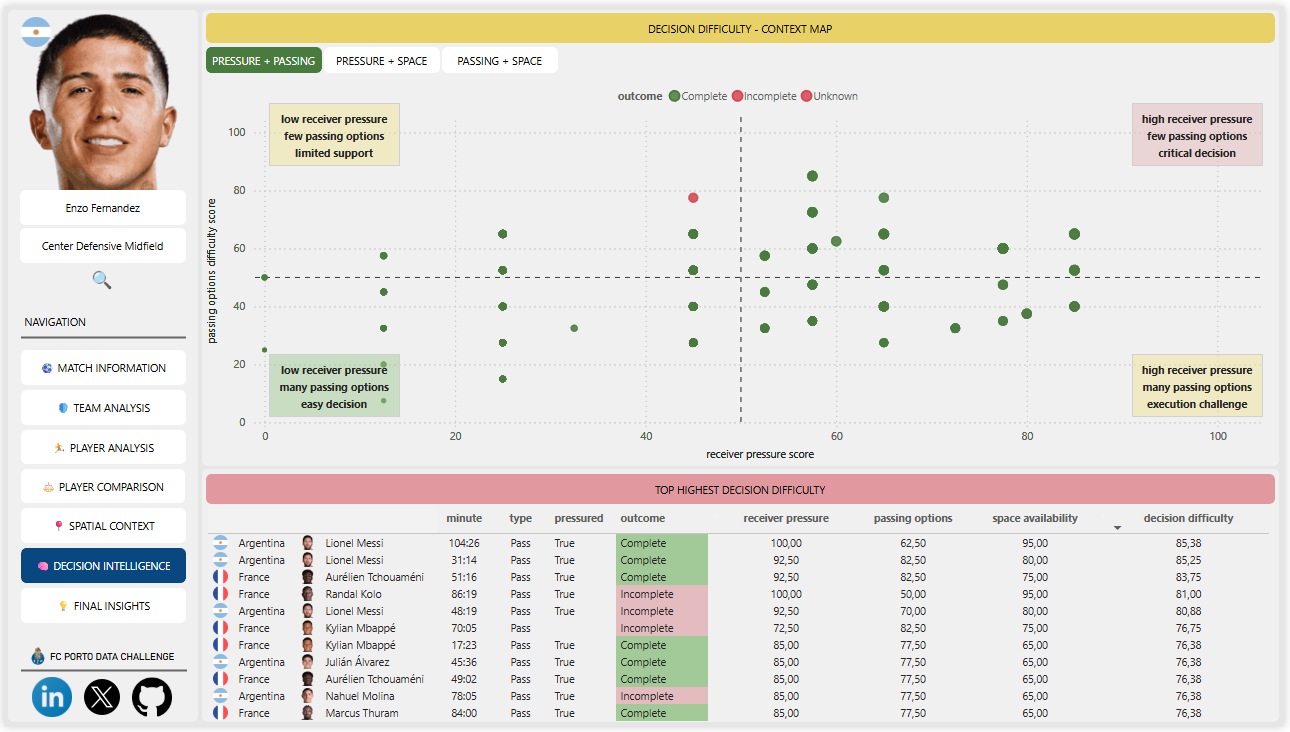

Layout of this report page (visuals, bound fields, positions):
{"tool":"powerbi","page":{"name":"decision intelligence","canvas":[1280,720],"ordinal":5},"visuals":[{"type":"shape","box":[4,4,190,712],"z":0},{"type":"actionButton","title":"inativo passing + space","box":[438,41,116,26],"z":0,"group":"g1"},{"type":"scatterChart","title":"tabela baixo espaço opções","fields":{"Category":["fct_events.id"],"Series":["fct_events.pass_outcome"],"Size":["Max(fct_events.decision_difficulty_score)"],"X":["Max(fct_events.receiver_pressure_score)"],"Y":["Max(fct_events.passing_options_difficulty_score)"]},"box":[198,71,1077,389],"z":0,"group":"g3"},{"type":"actionButton","title":"inativo pressure + space","box":[320,41,116,26],"z":1000,"group":"g1"},{"type":"shape","title":"forma legenda espaço opções","box":[198,72,1077,33],"z":1000,"group":"g3"},{"type":"actionButton","title":"Botão Ativo Acumulado","box":[16.6,344.1,165,35],"z":1000},{"type":"actionButton","title":"ativo pressure + passing","box":[202,41,116,26],"z":2000,"group":"g2"},{"type":"actionButton","title":"inativo pressure + passing","box":[202,41,116,26],"z":2000,"group":"g1"},{"type":"scatterChart","title":"tabela cima espaço opções","fields":{"Category":["fct_events.id"],"Series":["fct_events.pass_outcome"],"Size":["Max(fct_events.decision_difficulty_score)"],"X":["Max(fct_events.receiver_pressure_score)"],"Y":["Max(fct_events.passing_options_difficulty_score)"]},"box":[198,71,1077,389],"z":2000,"group":"g3"},{"type":"actionButton","title":"Botão Ativo Acumulado","box":[16.7,383.9,165.7,35],"z":2000},{"type":"textbox","title":"texto 4 espaço opções","box":[1128,97,131,63],"z":3000,"group":"g3"},{"type":"actionButton","title":"Botão Ativo Acumulado","box":[17,424,165,34],"z":3000},{"type":"textbox","title":"texto 3 espaço opções","box":[265,348,131,63],"z":4000,"group":"g3"},{"type":"actionButton","title":"Botão Ativo Acumulado","box":[17,463,164,34],"z":4000},{"type":"textbox","title":"texto 2 espaço opções","box":[265,97,131,63],"z":5000,"group":"g3"},{"type":"actionButton","title":"Botão Ativo Acumulado","box":[17,502,165,35],"z":5000},{"type":"shape","box":[16.6,302,165.6,58.9],"z":6000},{"type":"textbox","title":"texto 1 espaço opções","box":[1128,348,131,63],"z":6000,"group":"g3"},{"type":"actionButton","title":"Botão Ativo Acumulado","box":[10.1,300,83,30],"z":7000},{"type":"actionButton","title":"Botão Ativo Acumulado","box":[17,542,165,35],"z":8000},{"type":"actionButton","title":"Botão Ativo Acumulado","box":[17,582,165,35],"z":9000},{"type":"shape","box":[17,635,166,59],"z":10000},{"type":"image","box":[28.4,671,40,40],"z":11000},{"type":"image","box":[128.4,671,40,40],"z":12000},{"type":"image","box":[78.4,671,40,40],"z":13000},{"type":"shape","box":[198,463,1077,253],"z":14000},{"type":"tableEx","title":"tabela","fields":{"Values":["dim_players.team_logo","dim_players.team","dim_players.player_photo","dim_players.player_nickname","fct_events.match_time_final","fct_events.type","fct_events.under_pressure","fct_events.type_outcome","Sum(Tabela.Column)","Max(fct_events.receiver_pressure_score)","Max(fct_events.passing_options_difficulty_score)","Max(fct_events.space_difficulty_score)"]},"box":[198,498,1077,222],"z":15000},{"type":"actionButton","title":"Botão Ativo Acumulado","box":[202,468,1069,30],"z":16000},{"type":"image","box":[4,6,189,185],"z":17000},{"type":"actionButton","title":"Botão Ativo Acumulado","box":[16,184,166,35],"z":18000},{"type":"image","box":[88,264,20,20],"z":19000},{"type":"actionButton","title":"Botão Ativo Acumulado","box":[16,222,166,35],"z":20000},{"type":"image","box":[17,11,30,30],"z":21000},{"type":"shape","box":[198,4,1077,456],"z":22000},{"type":"actionButton","title":"Botão Ativo Acumulado","box":[202,7,1069,30],"z":23000},{"type":"group","id":"g1","title":"inativos","box":[202,41,352,26],"z":24000},{"type":"group","id":"g2","title":"ativos","box":[202,41,352,26],"z":25000},{"type":"group","id":"g3","title":"tabelas pressure + passing","box":[198,71,1077,389],"z":28000},{"type":"actionButton","title":"Botão Ativo Acumulado","box":[37,635,143,30],"z":30000},{"type":"image","box":[25,641,18,18],"z":31000}]}

Visuals, with their boxes on the page's 1280x720 design canvas (x1, y1, x2, y2). These are canvas units, not pixel positions in the 1290x732 screenshot, which may show the page scaled, cropped or inside an application window:
shape: 4:4:194:716
"inativo passing + space" actionButton: 438:41:554:67
"tabela baixo espaço opções" scatterChart: 198:71:1275:460
"inativo pressure + space" actionButton: 320:41:436:67
"forma legenda espaço opções" shape: 198:72:1275:105
"Botão Ativo Acumulado" actionButton: 17:344:182:379
"ativo pressure + passing" actionButton: 202:41:318:67
"inativo pressure + passing" actionButton: 202:41:318:67
"tabela cima espaço opções" scatterChart: 198:71:1275:460
"Botão Ativo Acumulado" actionButton: 17:384:182:419
"texto 4 espaço opções" textbox: 1128:97:1259:160
"Botão Ativo Acumulado" actionButton: 17:424:182:458
"texto 3 espaço opções" textbox: 265:348:396:411
"Botão Ativo Acumulado" actionButton: 17:463:181:497
"texto 2 espaço opções" textbox: 265:97:396:160
"Botão Ativo Acumulado" actionButton: 17:502:182:537
shape: 17:302:182:361
"texto 1 espaço opções" textbox: 1128:348:1259:411
"Botão Ativo Acumulado" actionButton: 10:300:93:330
"Botão Ativo Acumulado" actionButton: 17:542:182:577
"Botão Ativo Acumulado" actionButton: 17:582:182:617
shape: 17:635:183:694
image: 28:671:68:711
image: 128:671:168:711
image: 78:671:118:711
shape: 198:463:1275:716
"tabela" tableEx: 198:498:1275:720
"Botão Ativo Acumulado" actionButton: 202:468:1271:498
image: 4:6:193:191
"Botão Ativo Acumulado" actionButton: 16:184:182:219
image: 88:264:108:284
"Botão Ativo Acumulado" actionButton: 16:222:182:257
image: 17:11:47:41
shape: 198:4:1275:460
"Botão Ativo Acumulado" actionButton: 202:7:1271:37
"inativos" group: 202:41:554:67
"ativos" group: 202:41:554:67
"tabelas pressure + passing" group: 198:71:1275:460
"Botão Ativo Acumulado" actionButton: 37:635:180:665
image: 25:641:43:659
